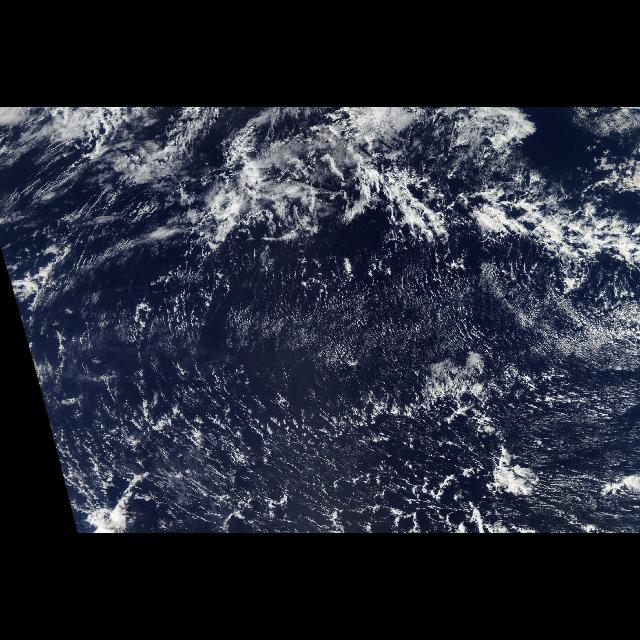Fish: (264, 134, 636, 290)
Gravel: (41, 283, 639, 533)
